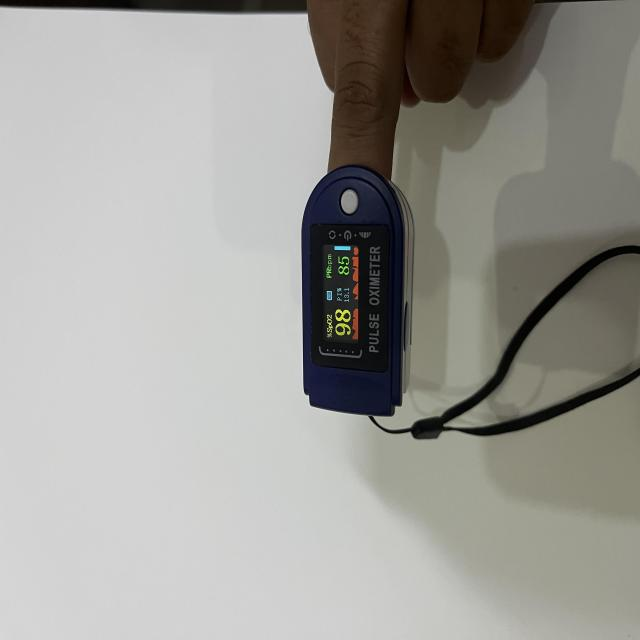spo2: (300, 166, 412, 419)
